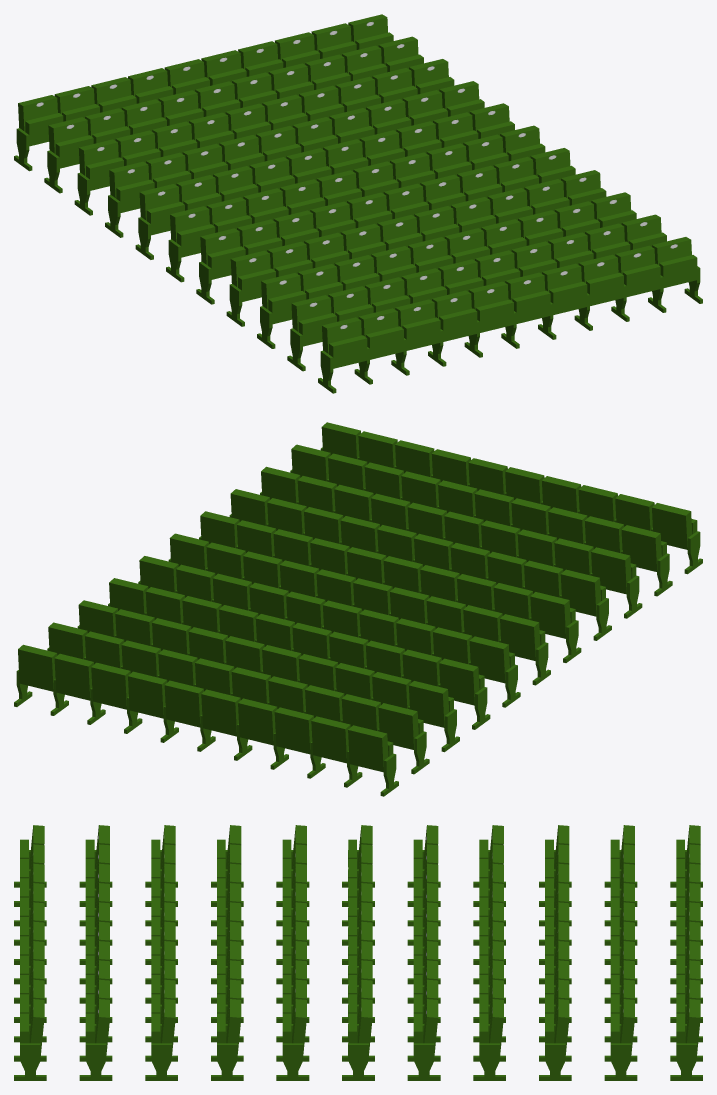
File: Seats_Section3C.FBX
The picture shows the model from 3 angles, top to bottom: view 1: azimuth 30°, elevation 25°; view 2: azimuth 150°, elevation 25°; view 3: azimuth 270°, elevation 25°; orthographic projection. The views are drawn at different scales.
Visible parts, largest first — view 1: Box011; view 2: Box011; view 3: Box011.
Part boxes in pixels (x1=…): Box011: x1=14, y1=14, x2=702, y2=393; Box011: x1=14, y1=422, x2=702, y2=796; Box011: x1=14, y1=825, x2=702, y2=1080.
Size of the model in its own units: 4.14 by 0.6188 by 6.18.
